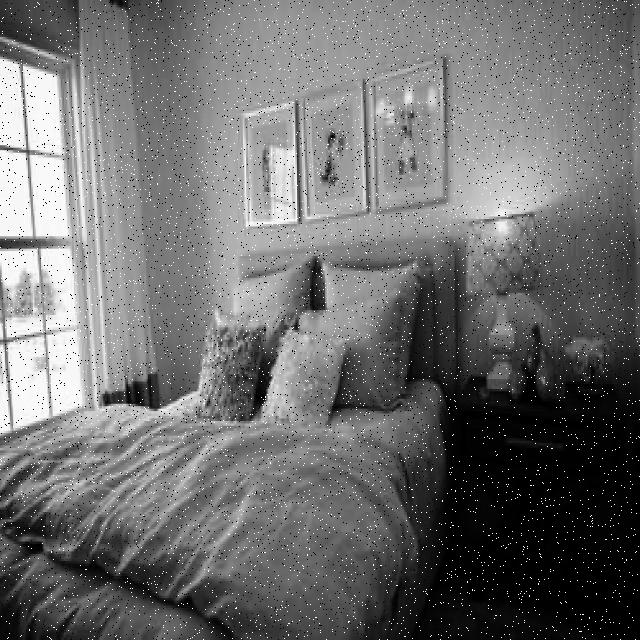bed: (0, 231, 456, 640)
